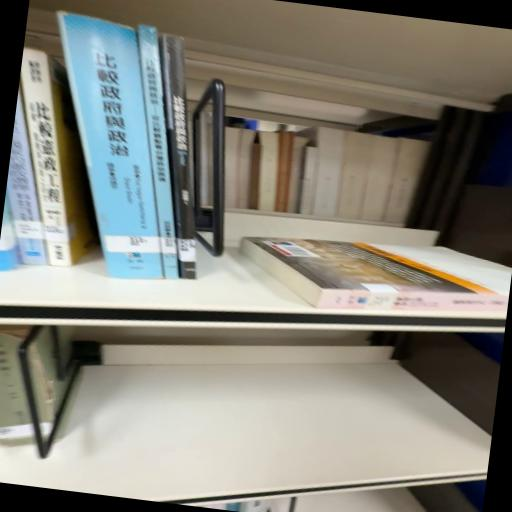flat: (240, 237, 512, 311)
